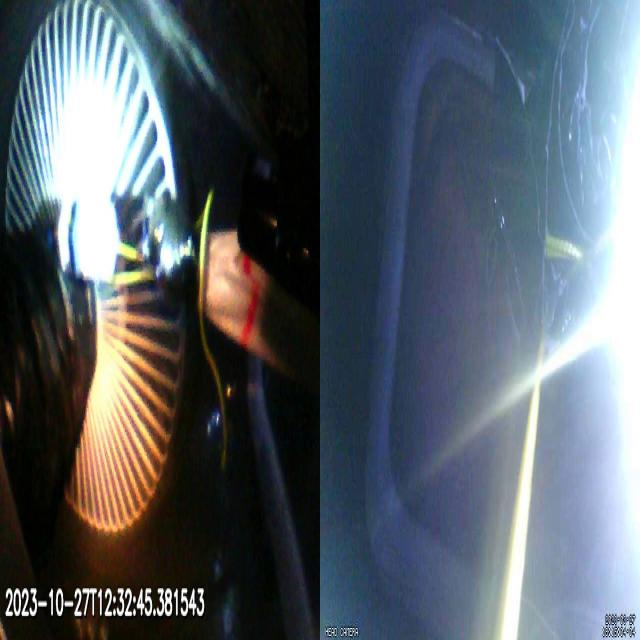head: (58, 194, 120, 285)
